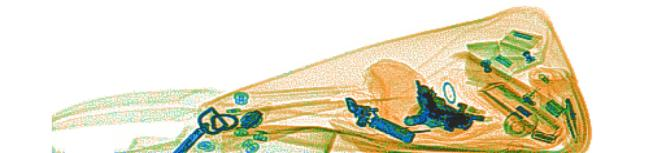plasticBottleWithaNozzle: (526, 65, 575, 111)
